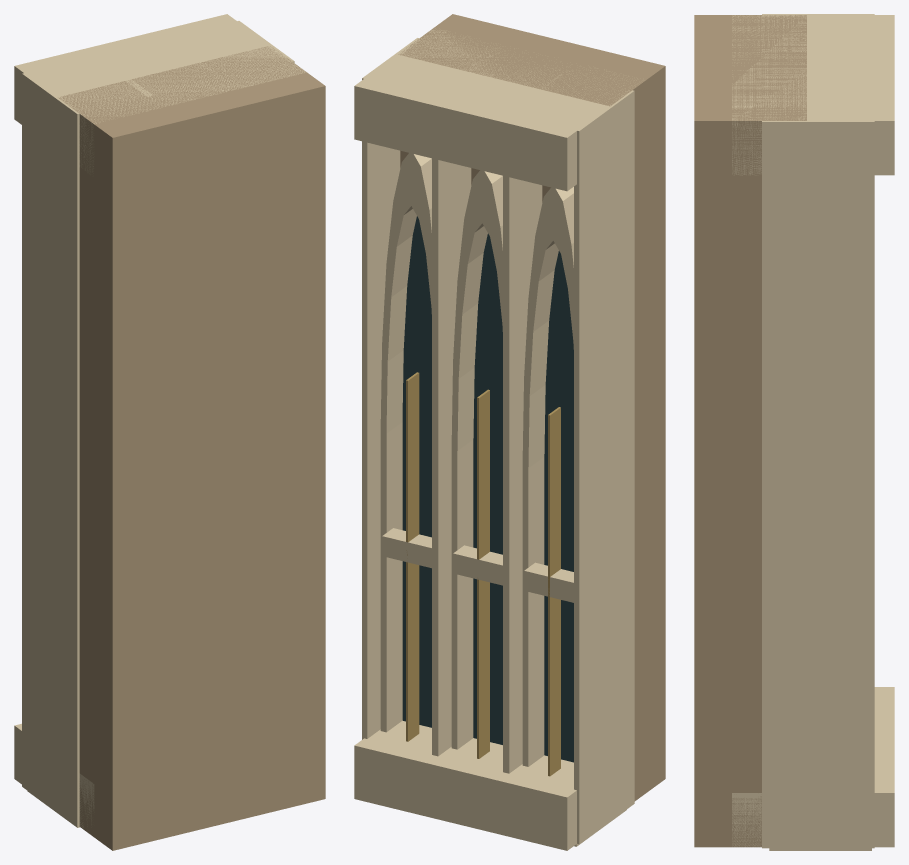
The model's file is Royal_Retaining.fbx.
3 renders of one model, left to right at view 1: azimuth 30°, elevation 25°; view 2: azimuth 150°, elevation 25°; view 3: azimuth 270°, elevation 25°, orthographic.
Parts seen in each view (by area): view 1: Royal_Retaining; view 2: Royal_Retaining; view 3: Royal_Retaining.
Boxes of the visible parts, x1,y1,x2,y2 form: Royal_Retaining: (14,14,325,850); Royal_Retaining: (354,14,665,850); Royal_Retaining: (694,14,894,850).
Bounding box in the file's own units: 1.02 × 3.22 × 0.8.
